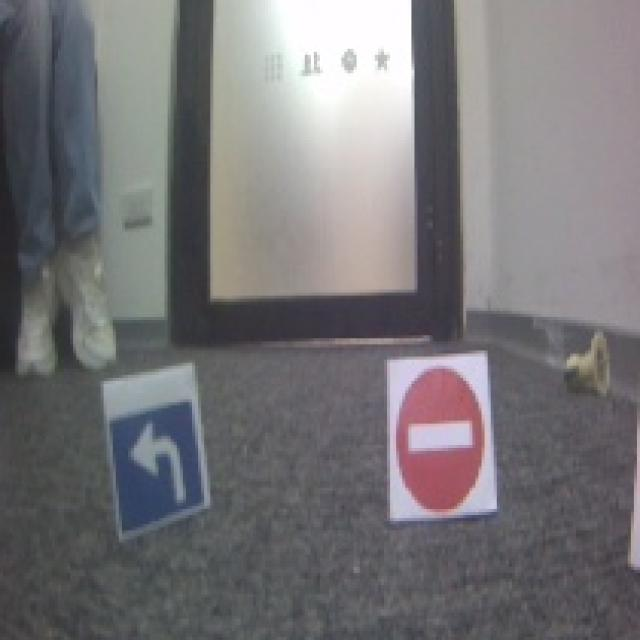DoNotEnterSign: (393, 362, 488, 516)
